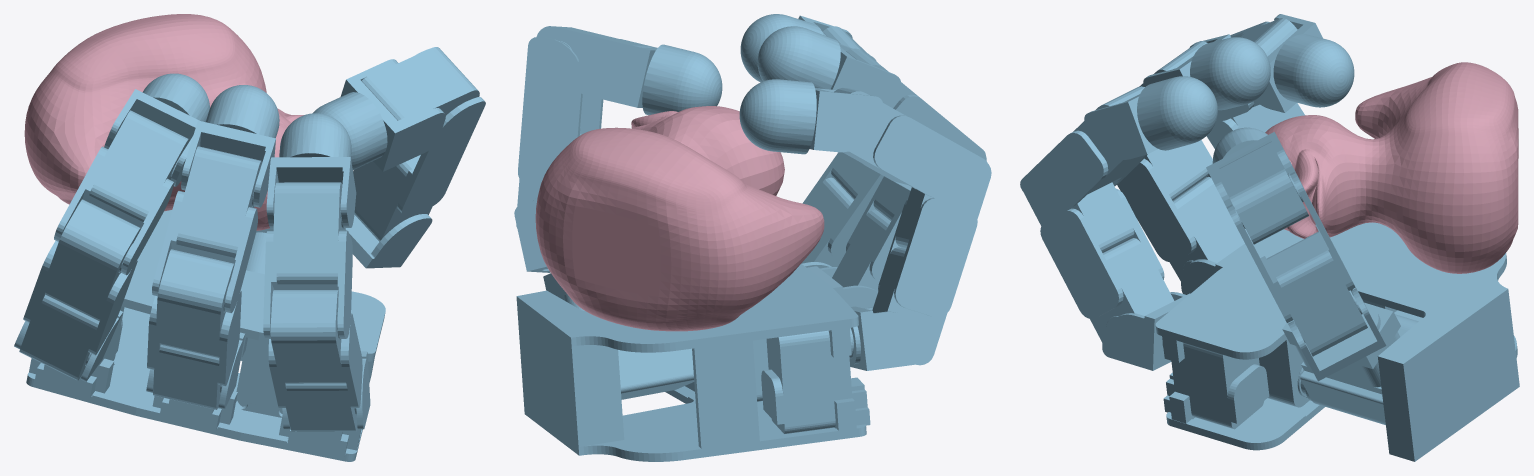
3 renders of one model, left to right at view 1: azimuth 30°, elevation 25°; view 2: azimuth 150°, elevation 25°; view 3: azimuth 270°, elevation 25°, orthographic. The views are drawn at different scales.
Parts seen in each view (by area): view 1: world; view 2: world; view 3: world.
Boxes of the visible parts, bbox=[...] form: world: bbox=[14, 14, 485, 461]; world: bbox=[514, 14, 991, 461]; world: bbox=[1020, 14, 1519, 461].
Size of the model in its own units: 0.1671 by 0.1345 by 0.1744.
